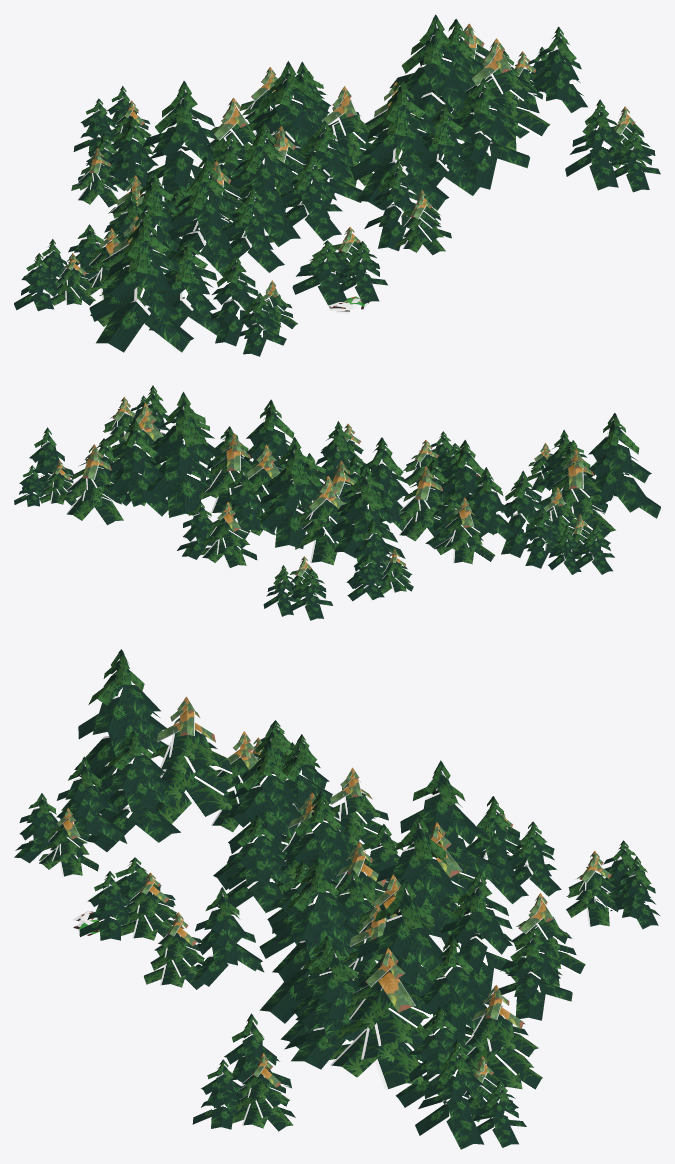
File: area_06_8.fbx
3 views of the same model, one above another, from view 1: azimuth 30°, elevation 25°; view 2: azimuth 150°, elevation 25°; view 3: azimuth 270°, elevation 25° (orthographic). The views are drawn at different scales.
Visible parts, largest first — view 1: area_06_8; view 2: area_06_8; view 3: area_06_8.
Boxes of the visible parts, x1=… form: area_06_8: x1=14, y1=14, x2=660, y2=356; area_06_8: x1=14, y1=385, x2=660, y2=620; area_06_8: x1=14, y1=649, x2=659, y2=1149.
Size of the model in its own units: 78.13 by 16.79 by 56.11.
